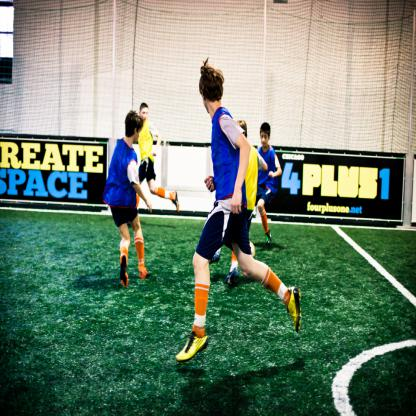Ball: (250, 242, 254, 258)
